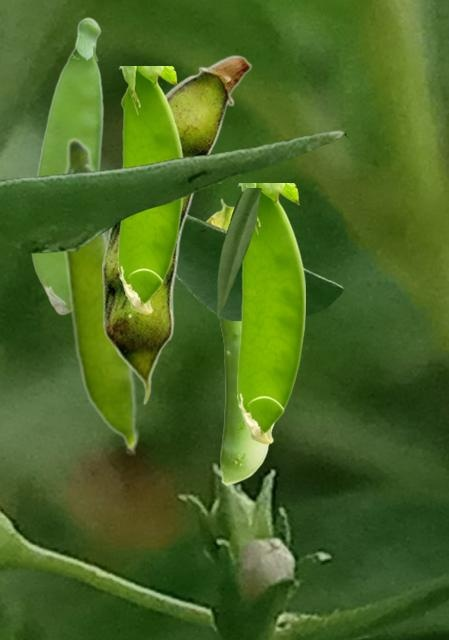pea: (102, 54, 251, 404), (59, 136, 139, 454), (29, 16, 103, 314), (205, 198, 275, 484), (237, 183, 304, 443), (118, 66, 182, 313)
